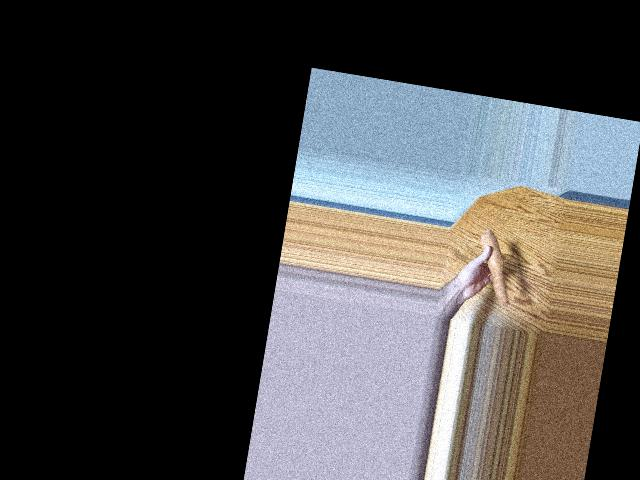sweet_potato: (479, 227, 514, 306)
